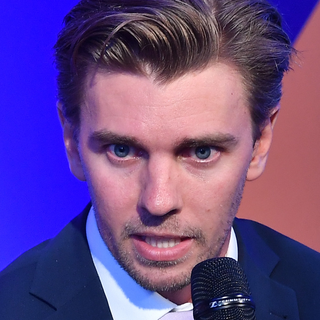eye: (175, 140, 226, 165), (101, 138, 147, 163)
